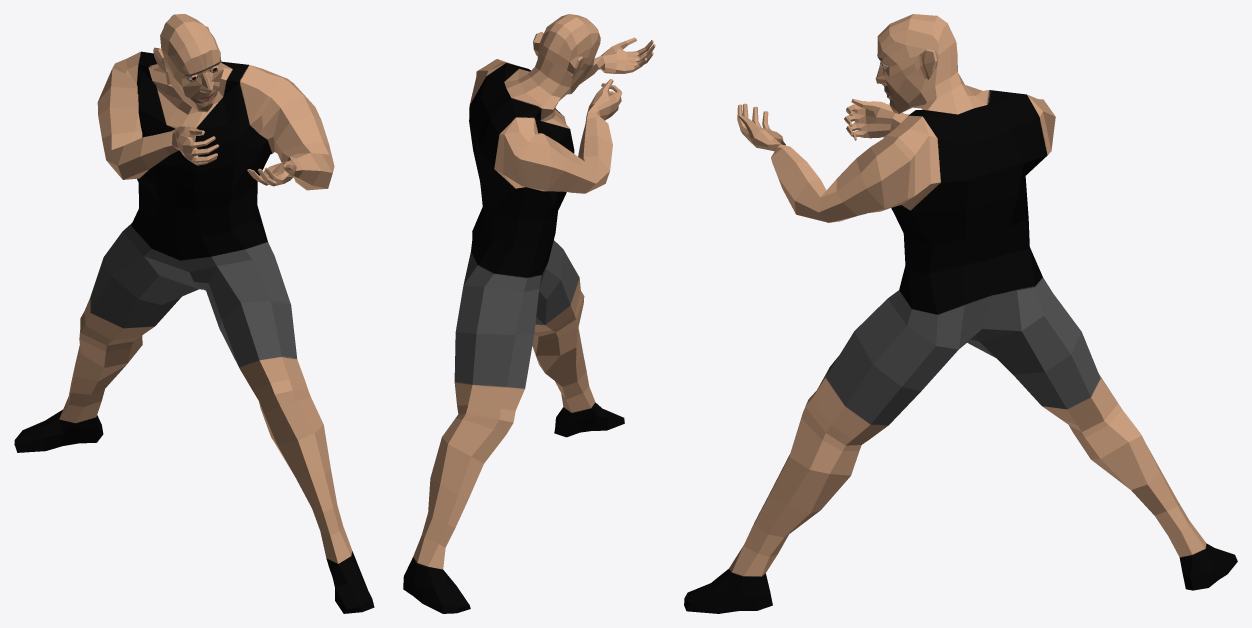
Rendered from PlayerShoot(17).obj.
3 renders of one model, left to right at view 1: azimuth 30°, elevation 25°; view 2: azimuth 150°, elevation 25°; view 3: azimuth 270°, elevation 25°, orthographic. The views are drawn at different scales.
Parts seen in each view (by area): view 1: Plane002; view 2: Plane002; view 3: Plane002.
Part boxes in pixels (x1,y1,x2,y2): Plane002: [14, 14, 374, 613]; Plane002: [403, 14, 655, 613]; Plane002: [684, 14, 1237, 613].
Size of the model in its own units: 541 by 1627 by 1471.
